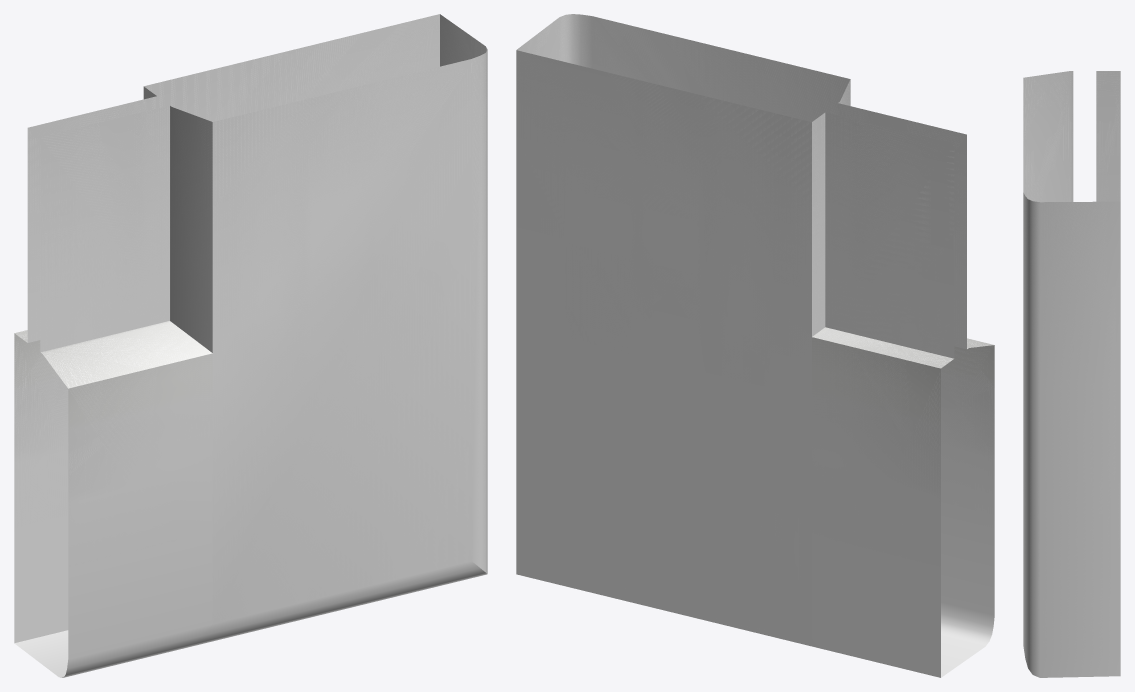
File: original-28.obj
The picture shows the model from 3 angles, left to right: view 1: azimuth 30°, elevation 25°; view 2: azimuth 150°, elevation 25°; view 3: azimuth 270°, elevation 25°; orthographic projection. The views are drawn at different scales.
Parts seen in each view (by area): view 1: LT_21_BR1/LT_21_BR/mesh22/mesh22-geometry#mesh22-geometry; view 2: LT_21_BR1/LT_21_BR/mesh22/mesh22-geometry#mesh22-geometry; view 3: LT_21_BR1/LT_21_BR/mesh22/mesh22-geometry#mesh22-geometry.
Boxes of the visible parts, bbox=[...] form: LT_21_BR1/LT_21_BR/mesh22/mesh22-geometry#mesh22-geometry: bbox=[14, 14, 487, 677]; LT_21_BR1/LT_21_BR/mesh22/mesh22-geometry#mesh22-geometry: bbox=[516, 14, 994, 677]; LT_21_BR1/LT_21_BR/mesh22/mesh22-geometry#mesh22-geometry: bbox=[1023, 71, 1120, 677].
Size of the model in its own units: 0.124 by 0.1462 by 0.0271.
